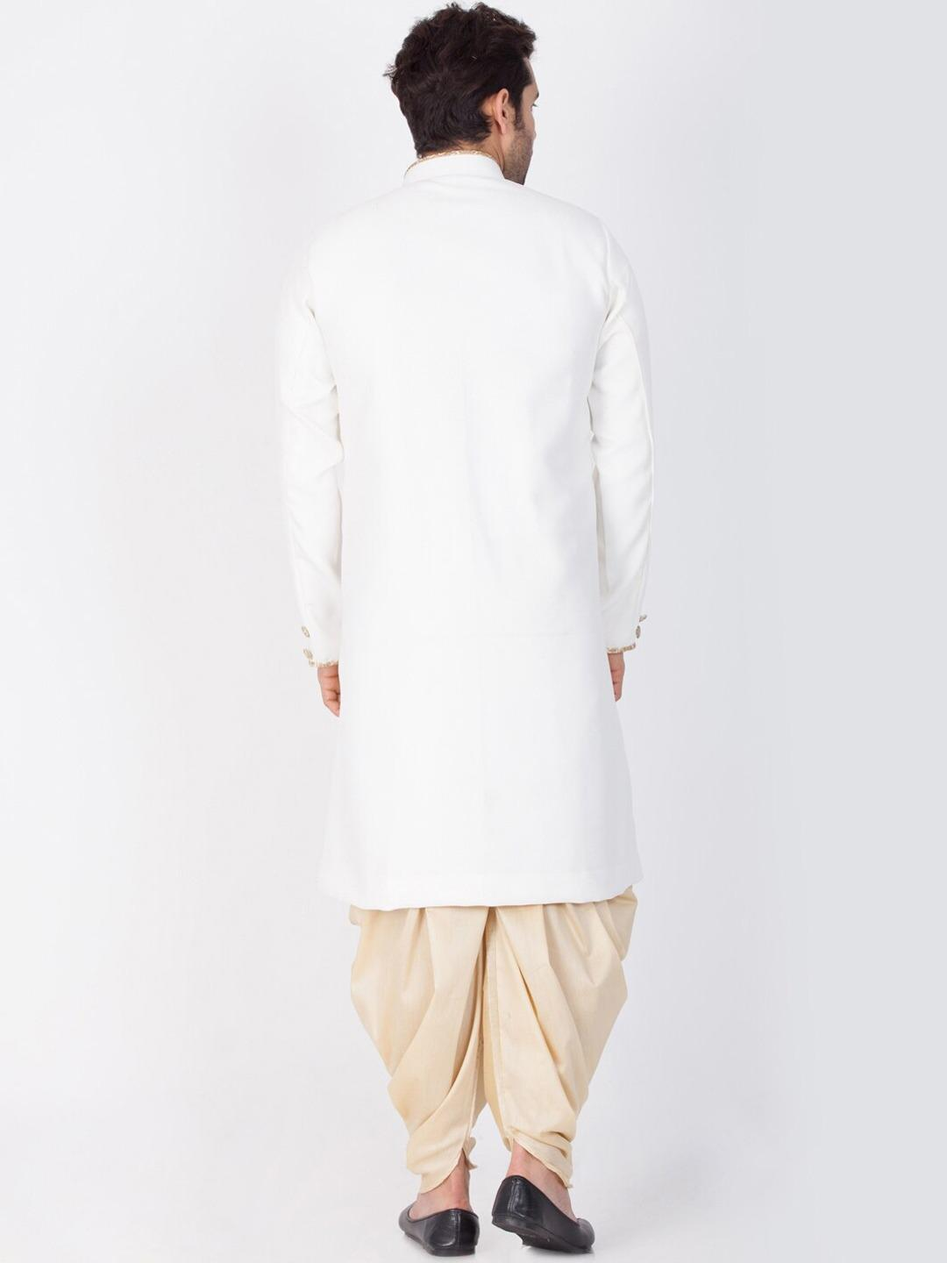Plain Sherwani: (275, 152, 658, 910)
